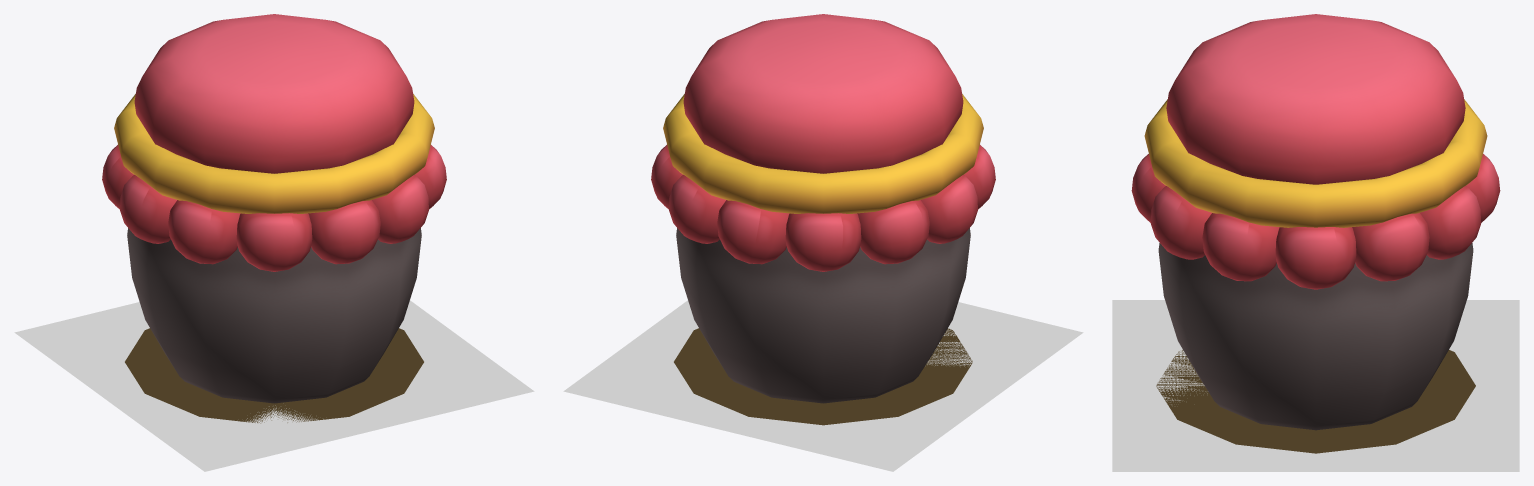
The model's file is JP_Jar.fbx.
3 views of the same model, side by side, from view 1: azimuth 30°, elevation 25°; view 2: azimuth 150°, elevation 25°; view 3: azimuth 270°, elevation 25° (orthographic). The views are drawn at different scales.
Visible parts, largest first — view 1: polySurface7, polySurface13, Jar_Grid, Shadow; view 2: polySurface7, polySurface13, Jar_Grid, Shadow; view 3: polySurface7, polySurface13, Jar_Grid, Shadow.
Part boxes in pixels (x1=…): polySurface7: x1=102, y1=14, x2=446, y2=271; polySurface13: x1=127, y1=228, x2=421, y2=403; Jar_Grid: x1=14, y1=300, x2=534, y2=471; Shadow: x1=125, y1=328, x2=423, y2=423; polySurface7: x1=651, y1=14, x2=995, y2=271; polySurface13: x1=676, y1=228, x2=970, y2=403; Jar_Grid: x1=563, y1=300, x2=1083, y2=471; Shadow: x1=674, y1=328, x2=972, y2=425; polySurface7: x1=1131, y1=14, x2=1500, y2=289; polySurface13: x1=1158, y1=243, x2=1473, y2=430; Jar_Grid: x1=1112, y1=300, x2=1519, y2=471; Shadow: x1=1156, y1=350, x2=1475, y2=453.
Size of the model in its own units: 1 by 0.9058 by 1.
